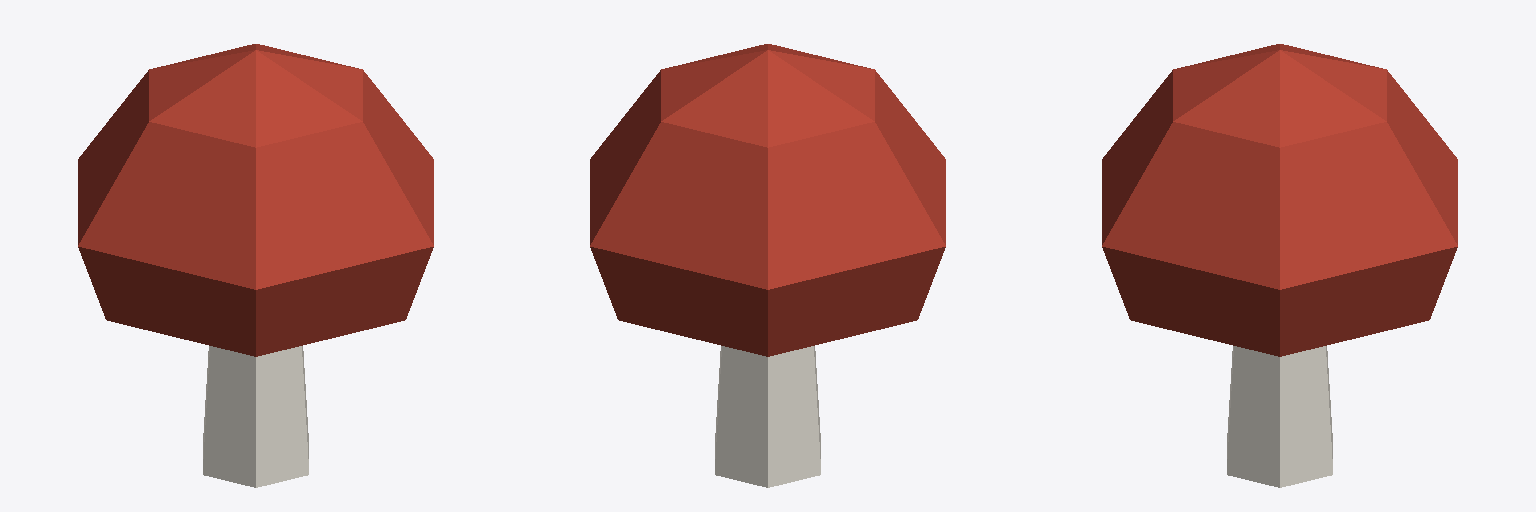
Rendered from Prop_Mushroom_1.obj.
3 views of the same model, side by side, from view 1: azimuth 30°, elevation 25°; view 2: azimuth 150°, elevation 25°; view 3: azimuth 270°, elevation 25° (orthographic).
Visible parts, largest first — view 1: object2, object1; view 2: object2, object1; view 3: object2, object1.
Boxes of the visible parts, <box> form: object2: <box>78,44,433,356</box>; object1: <box>203,346,308,487</box>; object2: <box>590,44,945,356</box>; object1: <box>715,346,820,487</box>; object2: <box>1102,44,1457,356</box>; object1: <box>1227,346,1332,487</box>.
Bounding box in the file's own units: 0.25 × 0.2762 × 0.2165.